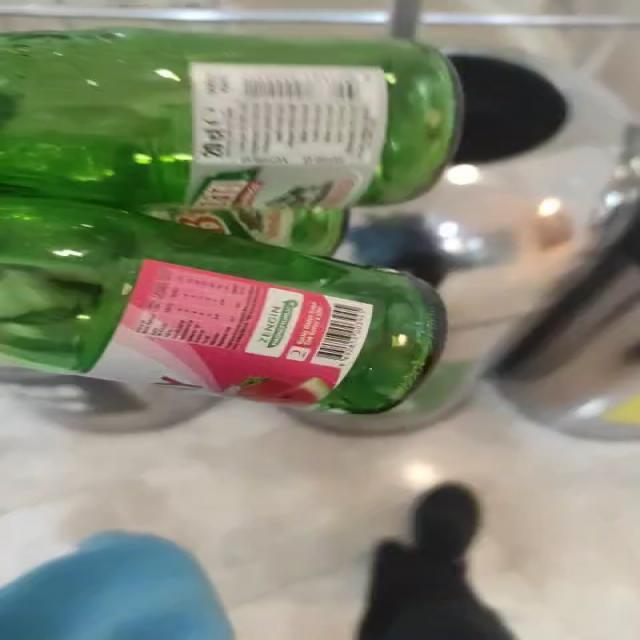glass: (0, 28, 461, 414)
